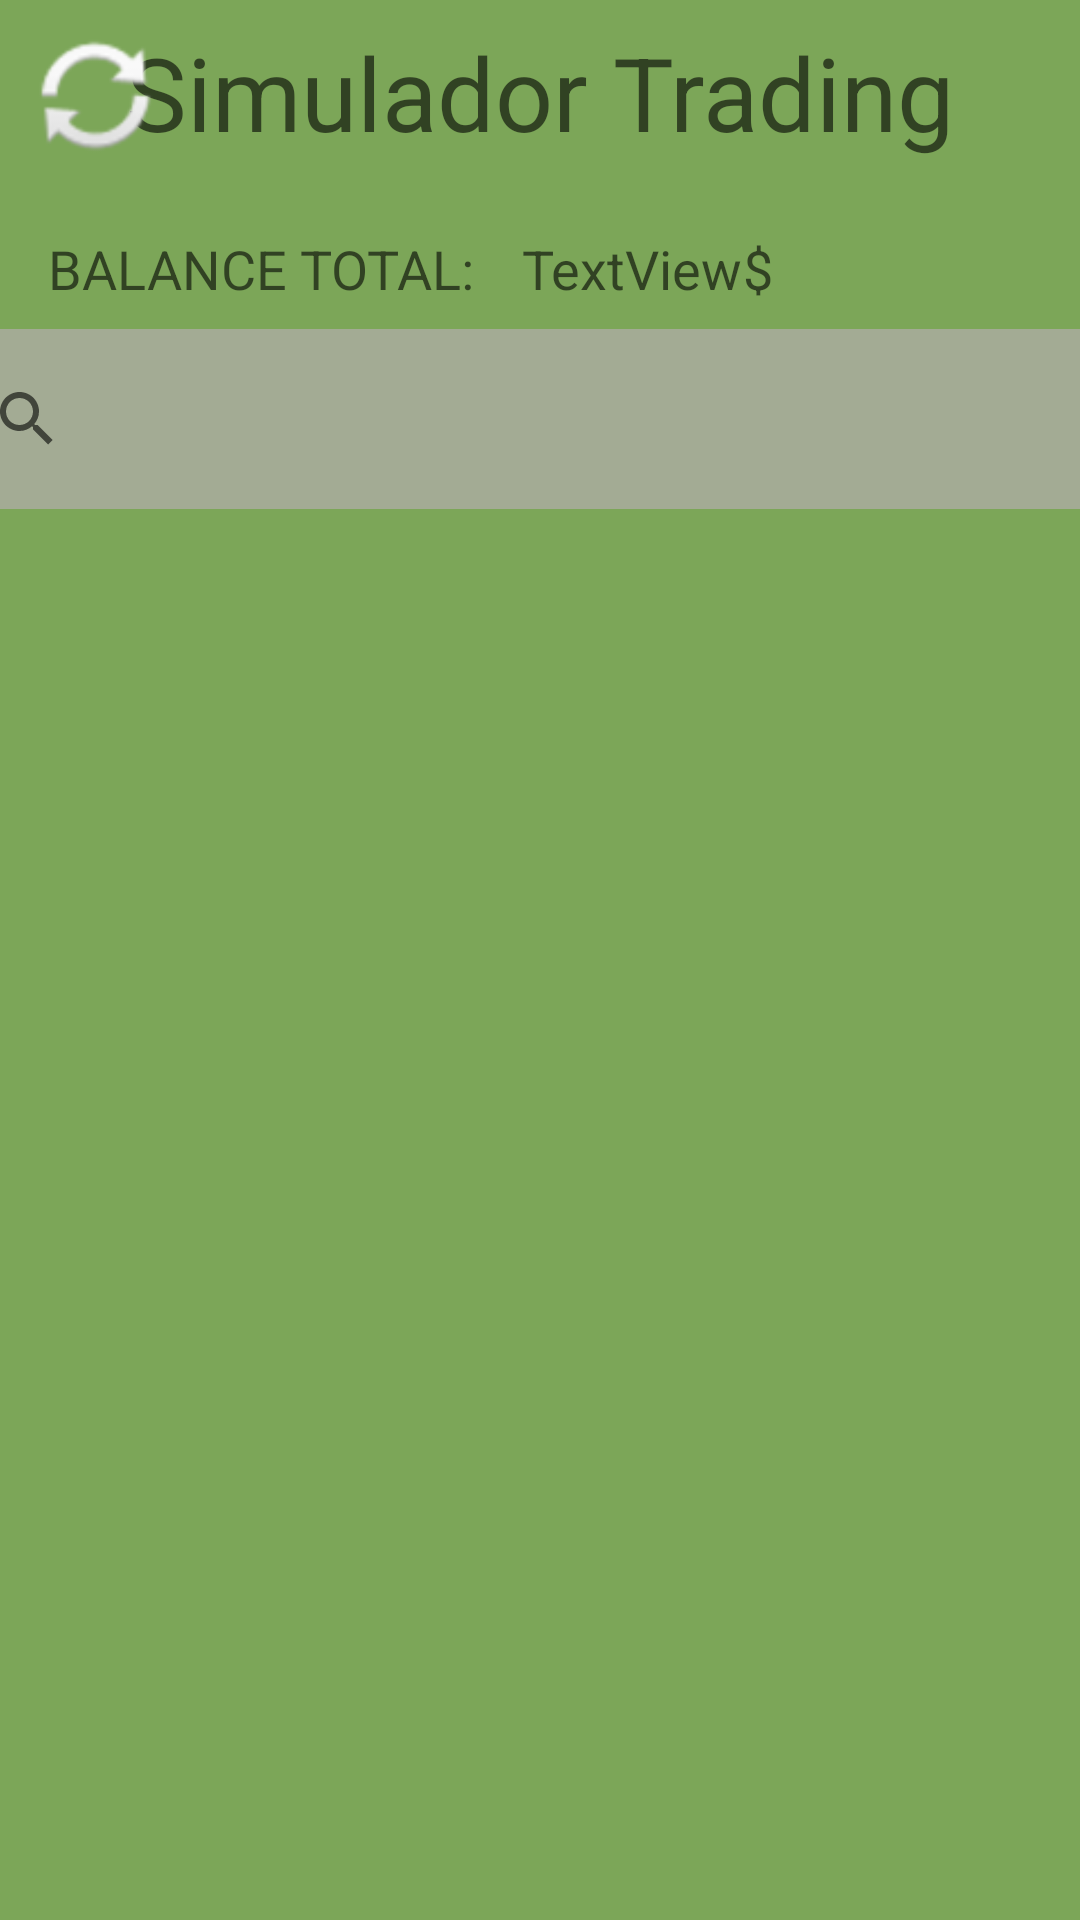

Where to tap for icons on this 1080 x 1920 app screen, as (x,y):
popup sync: (104,95)
